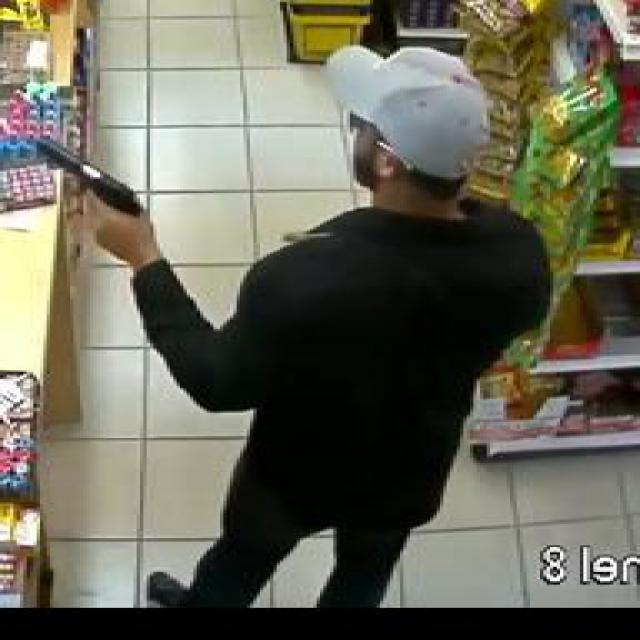Gun: (27, 130, 154, 245)
